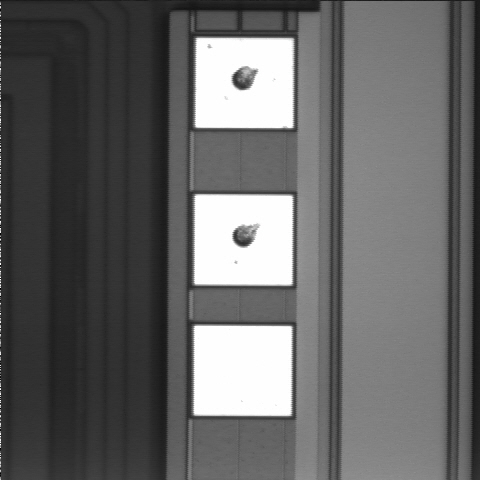pad: (195, 195, 293, 285), (194, 326, 292, 416), (196, 38, 293, 128)
